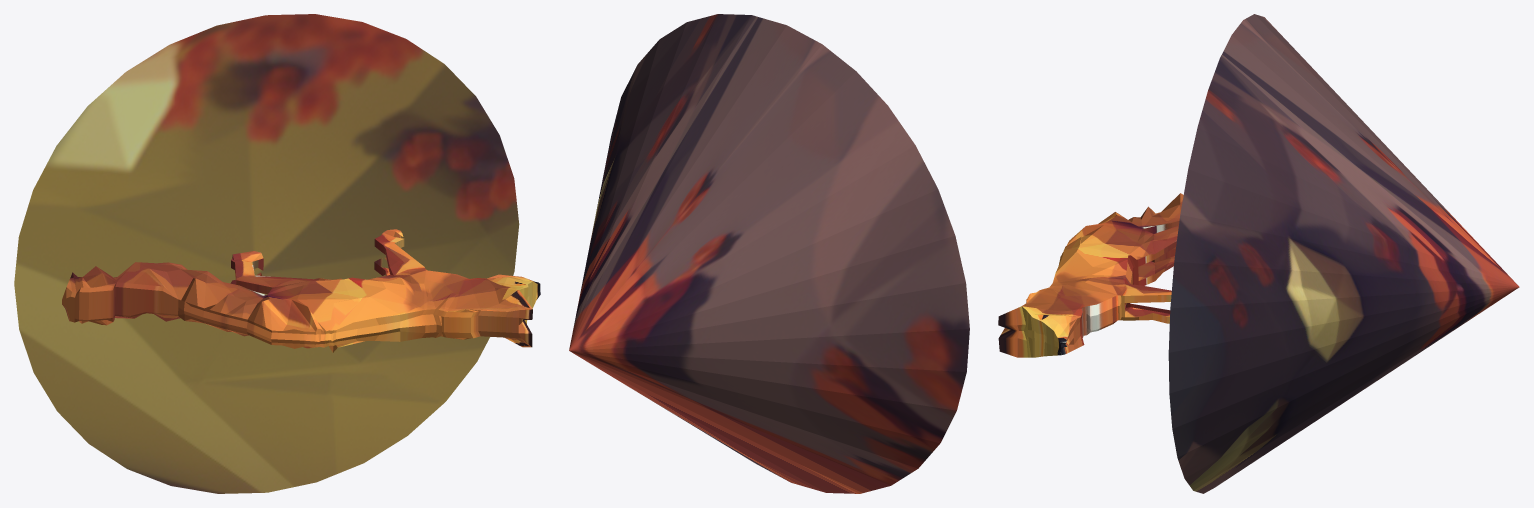
The model's file is foxcone1.glb.
3 renders of one model, left to right at view 1: azimuth 30°, elevation 25°; view 2: azimuth 150°, elevation 25°; view 3: azimuth 270°, elevation 25°, orthographic. The views are drawn at different scales.
Parts seen in each view (by area): view 1: Plane.001; view 2: Plane.001; view 3: Plane.001.
Part boxes in pixels (<box>): Plane.001: <box>14,14,540,493</box>; Plane.001: <box>569,14,969,493</box>; Plane.001: <box>998,14,1519,493</box>.
Bounding box in the file's own units: 1.94 × 2 × 2.16.
2 materials, 2 textured.
